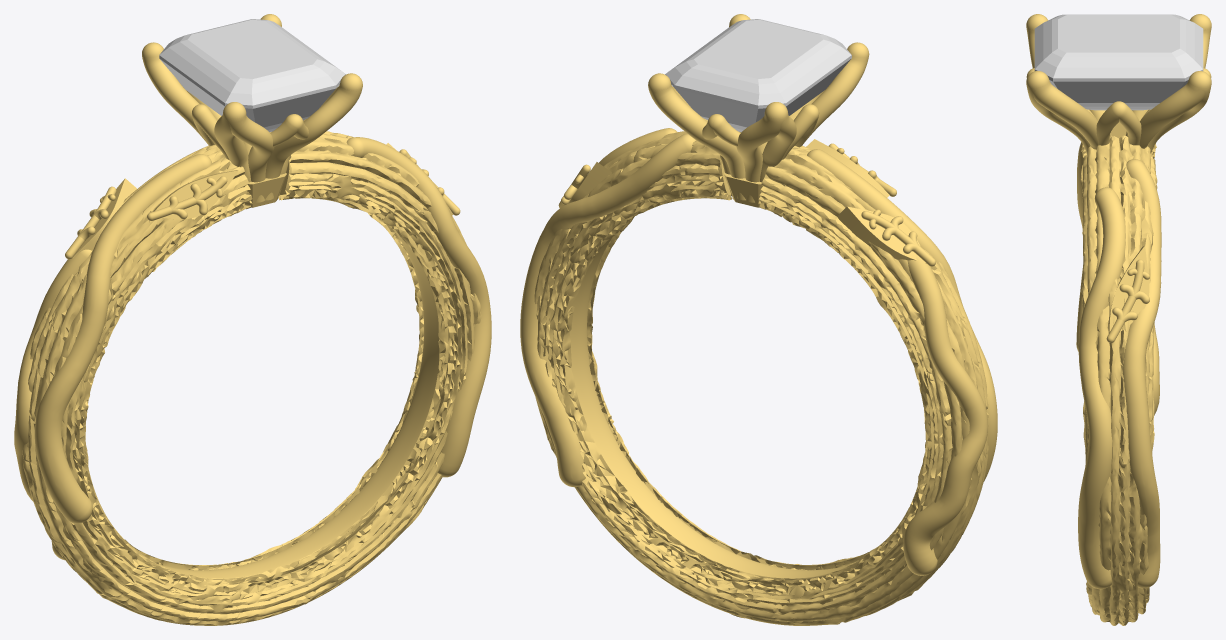
The model's file is HunterYGV2woodgrain_blender.glb.
3 renders of one model, left to right at view 1: azimuth 30°, elevation 25°; view 2: azimuth 150°, elevation 25°; view 3: azimuth 270°, elevation 25°, orthographic.
Parts seen in each view (by area): view 1: V2 Hunter YG for 3d model, Hunter dia for 3d model; view 2: V2 Hunter YG for 3d model, Hunter dia for 3d model; view 3: V2 Hunter YG for 3d model, Hunter dia for 3d model.
Boxes of the visible parts, left/top/right/bottom form: V2 Hunter YG for 3d model: left=14, top=14, right=491, bottom=625; Hunter dia for 3d model: left=159, top=19, right=345, bottom=132; V2 Hunter YG for 3d model: left=520, top=14, right=997, bottom=625; Hunter dia for 3d model: left=665, top=19, right=851, bottom=132; V2 Hunter YG for 3d model: left=1026, top=14, right=1211, bottom=625; Hunter dia for 3d model: left=1034, top=14, right=1203, bottom=110.
Bounding box in the file's own units: 20.42 × 24.18 × 7.14.
